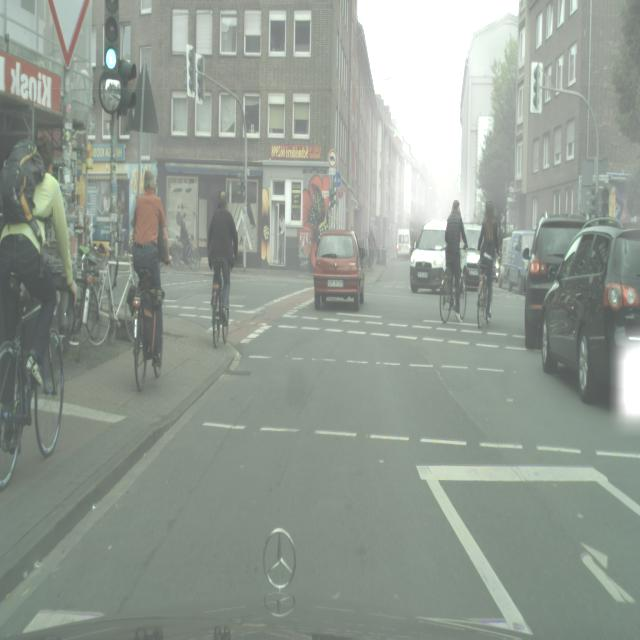car: (0, 285, 65, 491), (57, 249, 113, 361), (77, 249, 137, 351), (131, 286, 164, 392), (439, 259, 467, 323), (211, 264, 230, 347), (171, 239, 201, 271), (477, 261, 491, 328)
person: (0, 134, 77, 397), (131, 165, 173, 363), (207, 191, 238, 342), (444, 200, 468, 314), (477, 202, 499, 319), (176, 207, 192, 264)
train: (397, 228, 411, 259)
truck: (540, 219, 640, 414), (523, 212, 587, 349), (313, 229, 365, 311), (506, 229, 535, 292), (497, 235, 511, 288), (396, 228, 411, 259)
